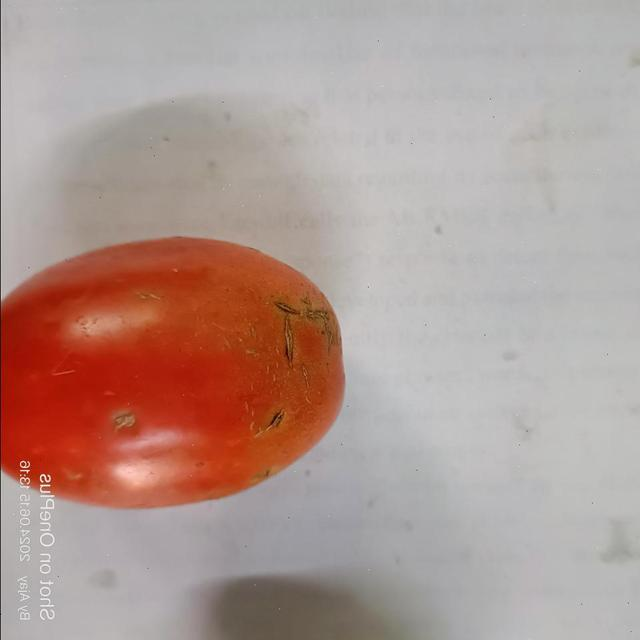Bacterial Spot Fruit: (14, 14, 192, 281)
